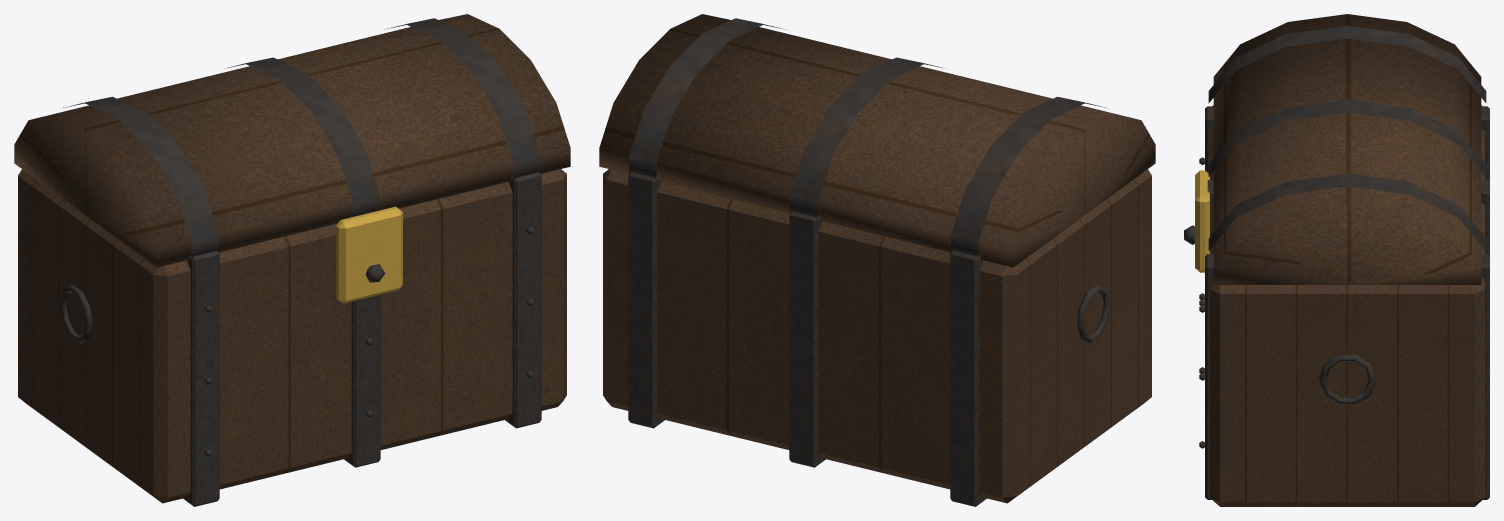
File: chest.glb
3 renders of one model, left to right at view 1: azimuth 30°, elevation 25°; view 2: azimuth 150°, elevation 25°; view 3: azimuth 270°, elevation 25°, orthographic. The views are drawn at different scales.
Parts seen in each view (by area): view 1: chest; view 2: chest; view 3: chest.
Boxes of the visible parts, x1,y1,x2,y2 form: chest: [14, 14, 570, 506]; chest: [599, 14, 1155, 506]; chest: [1184, 14, 1489, 506].
Size of the model in its own units: 0.956 by 0.6952 by 0.612.
Materials: 1 (1 with a texture image).
